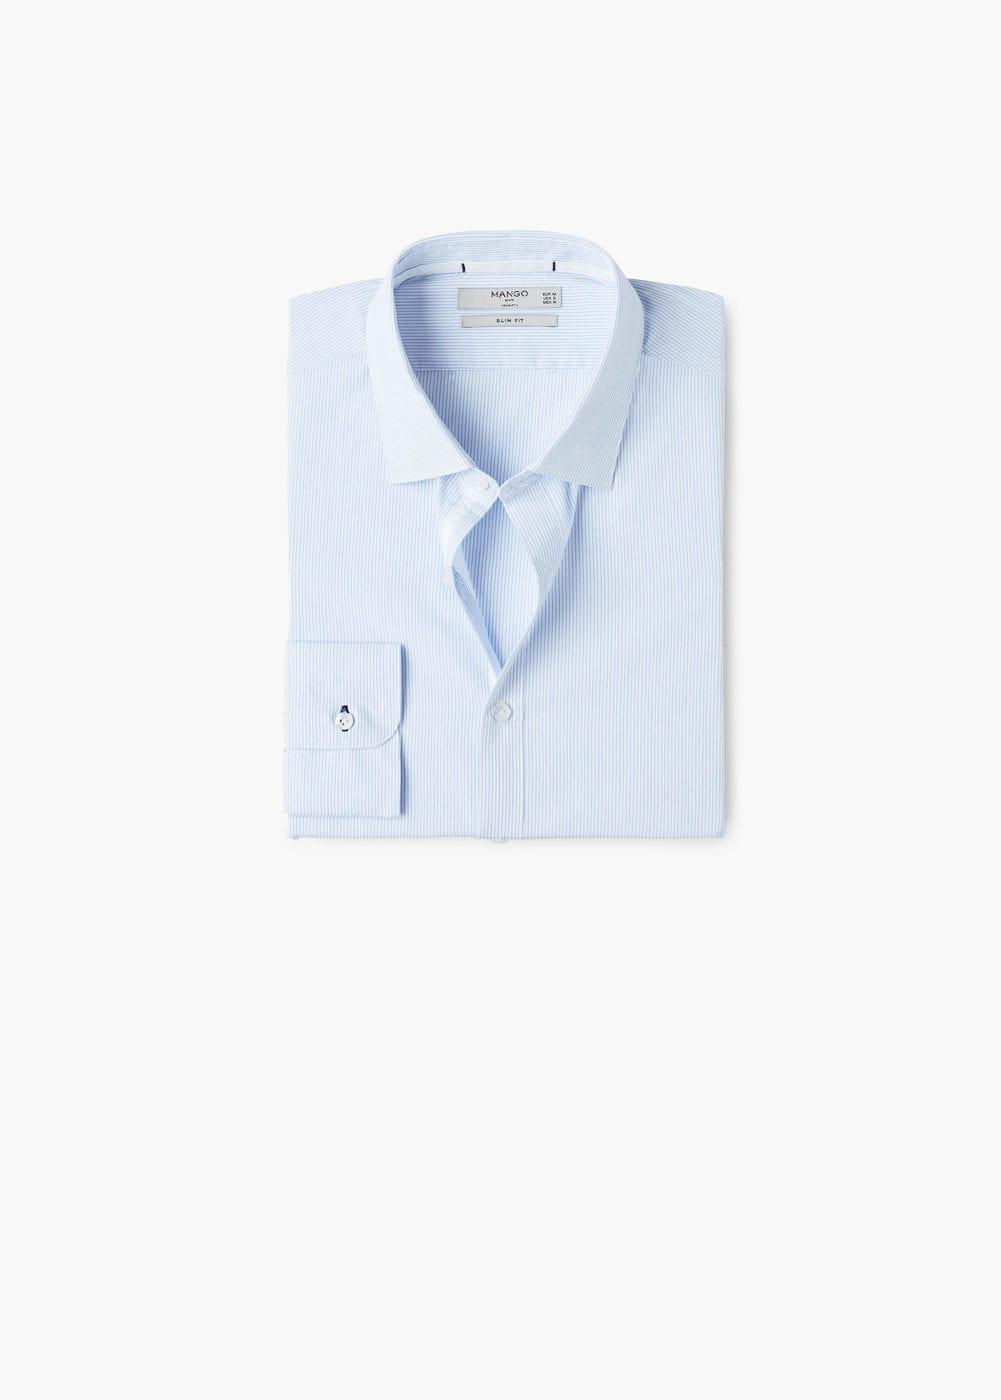teeshirt: (270, 223, 746, 874)
